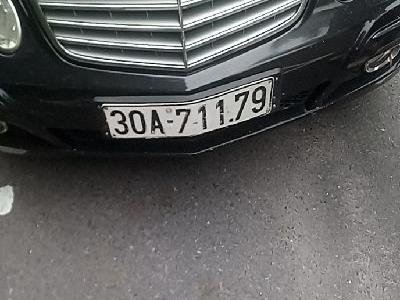car: (99, 74, 275, 141)
